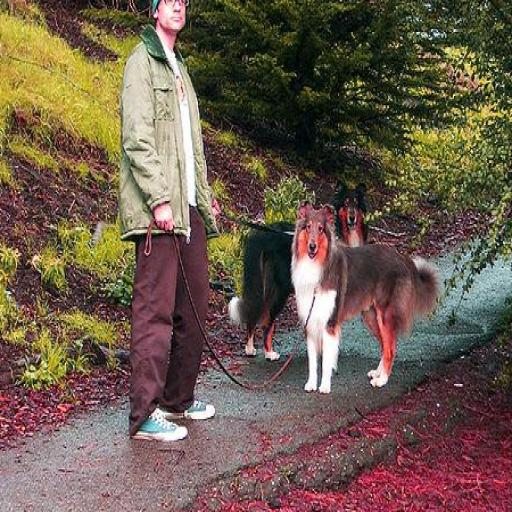dog_face: (295, 199, 332, 272), (334, 177, 368, 244)
